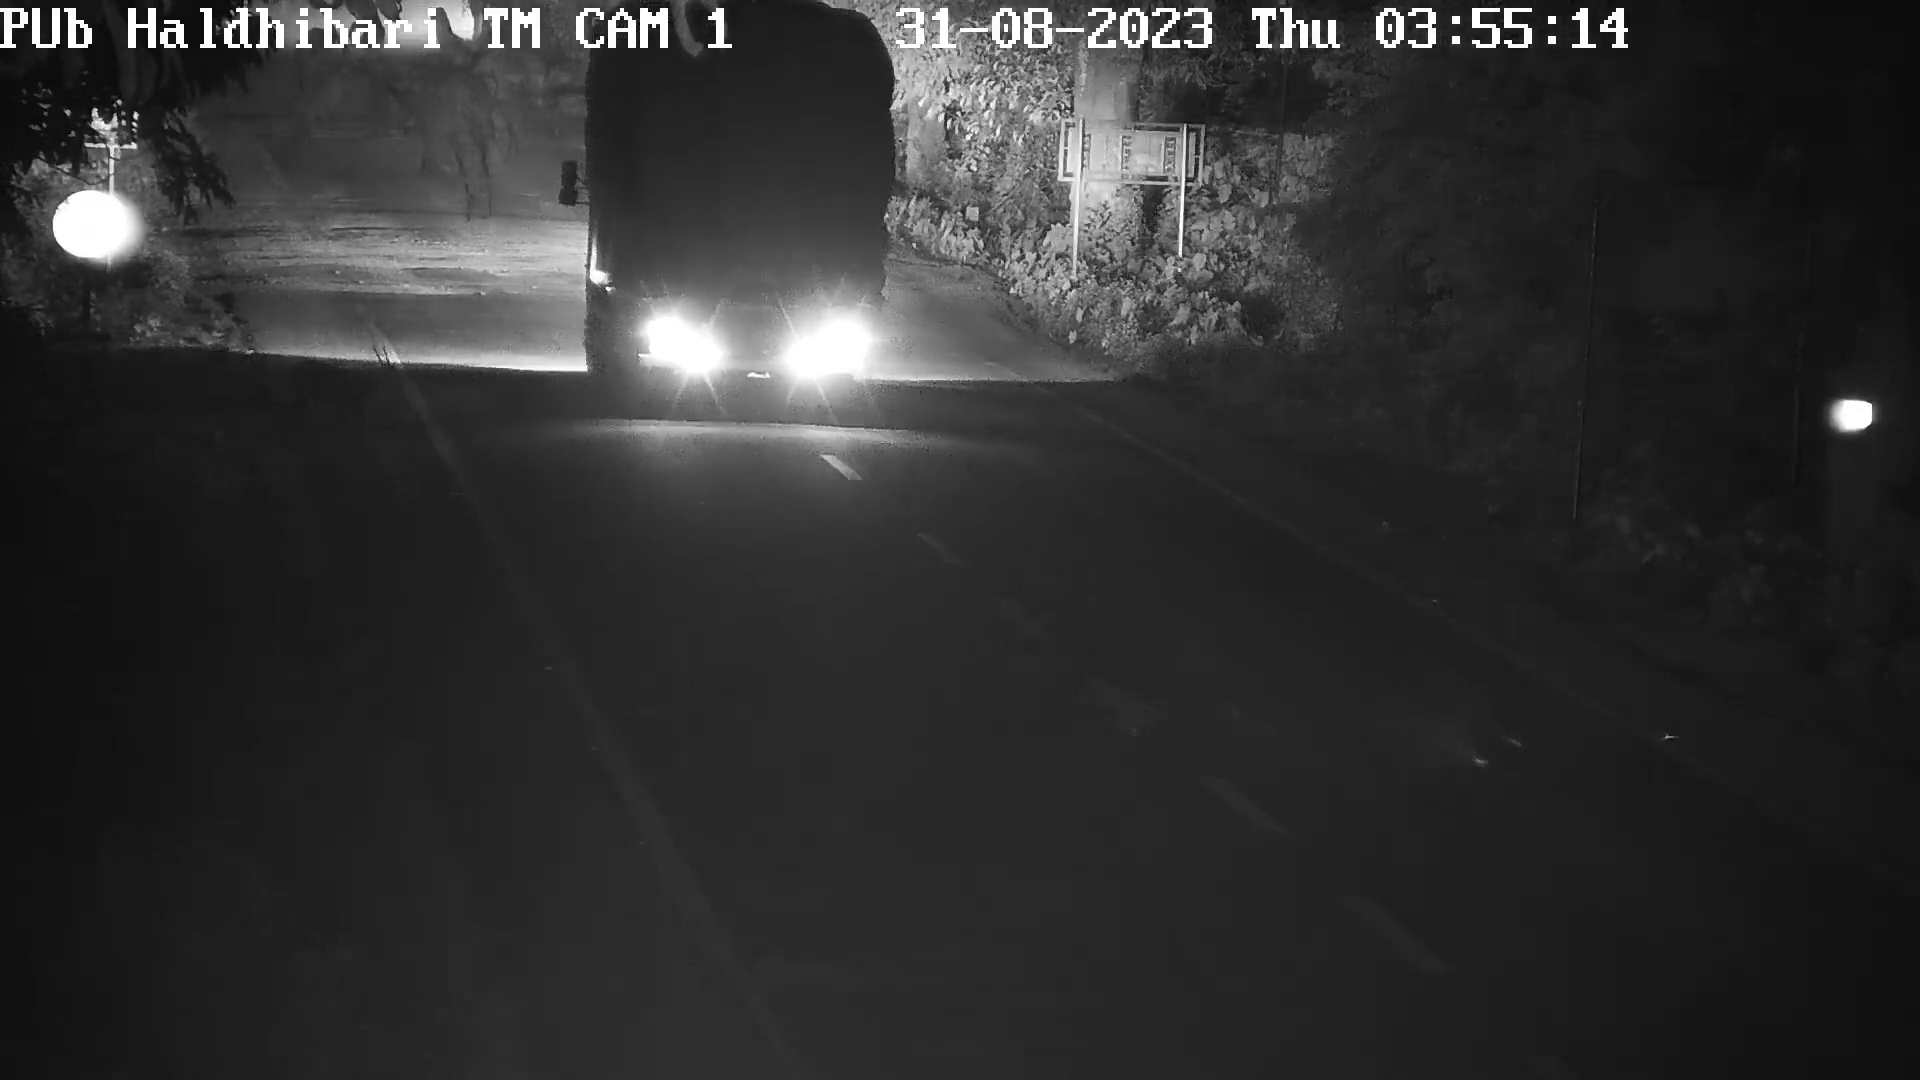deers: (285, 352, 405, 407)
